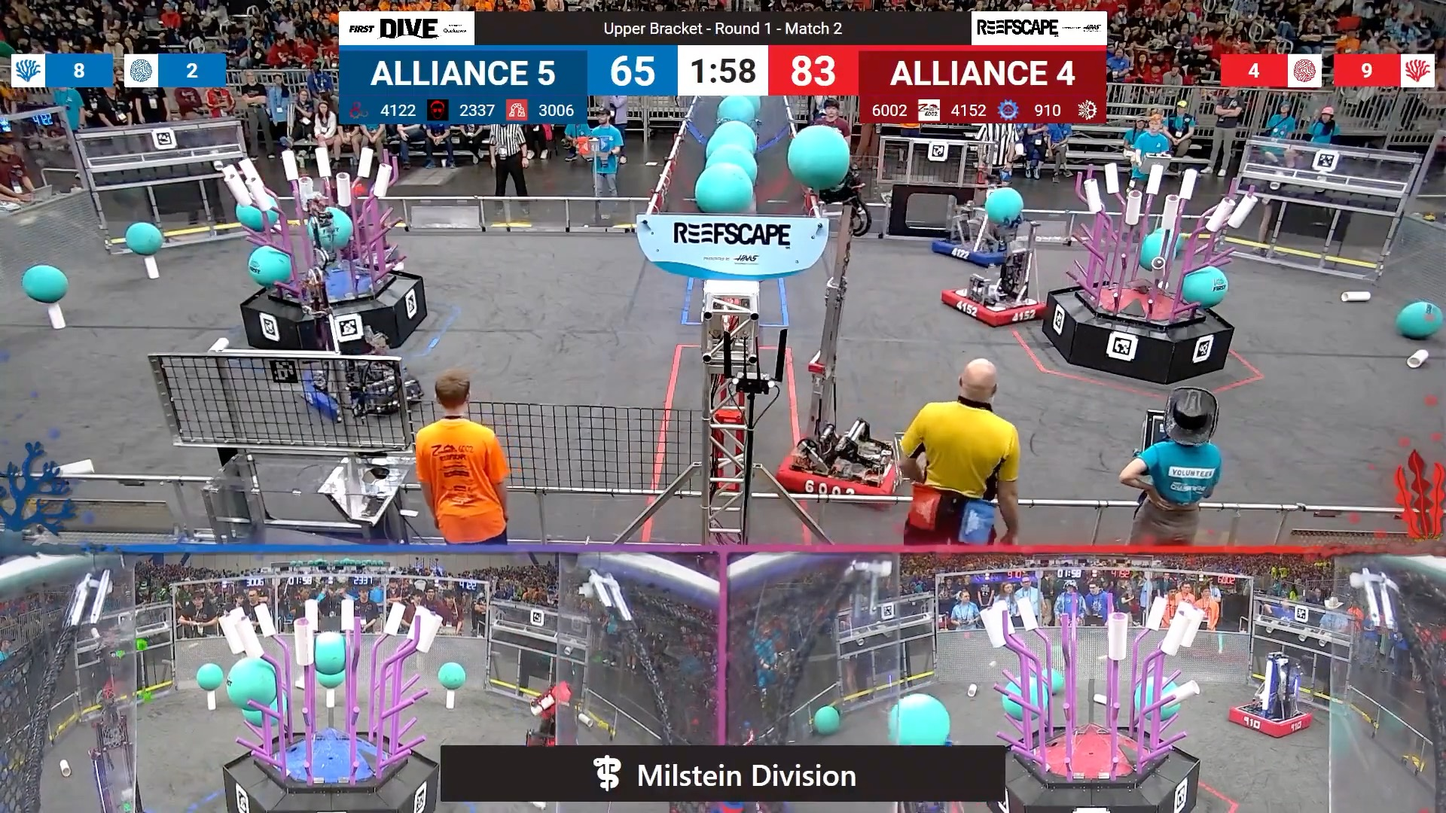bumpers: (769, 445, 907, 507), (293, 363, 416, 422), (935, 281, 1051, 330), (1222, 699, 1319, 740), (924, 238, 1030, 267)
